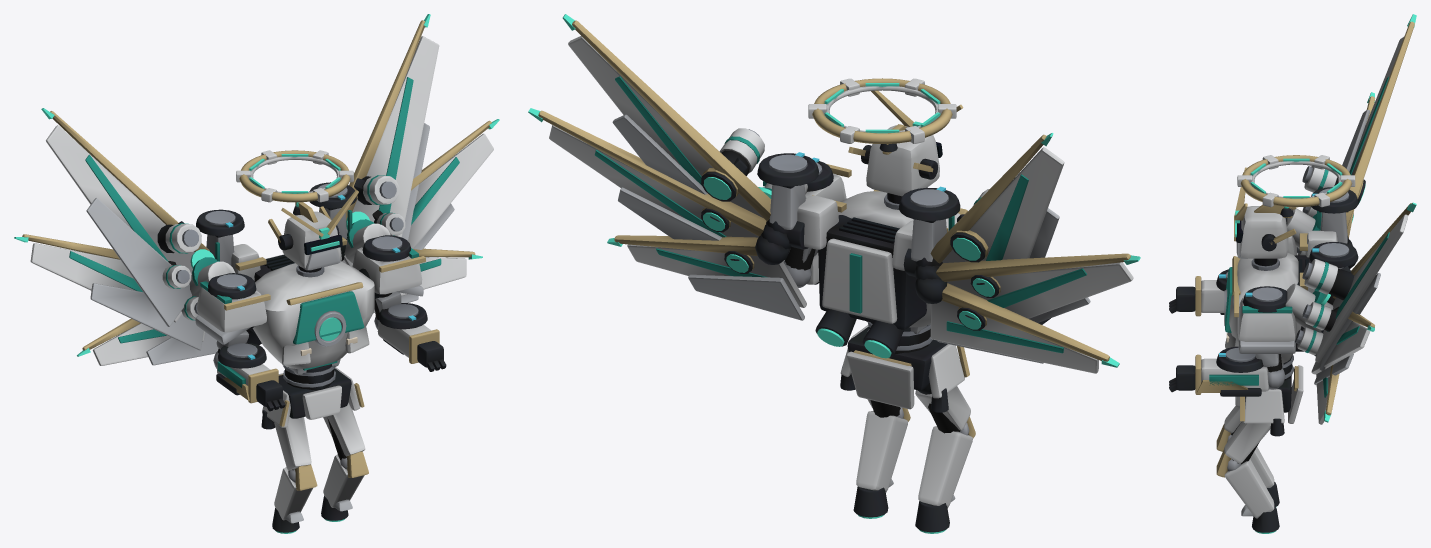
Rendered from ex_seraph_9.glb.
3 views of the same model, side by side, from view 1: azimuth 30°, elevation 25°; view 2: azimuth 150°, elevation 25°; view 3: azimuth 270°, elevation 25° (orthographic). The views are drawn at different scales.
Visible parts, largest first — view 1: body, flap_4, flap_0, flap_5, flap_1, flap_6, fan_0, flap_2; view 2: body, flap_0, flap_1, flap_4, flap_2, flap_5, flap_6, fan_0; view 3: body, flap_0, flap_4, fan_0, flap_1, flap_2, flap_5.
Part boxes in pixels (x1,y1,x2,y2): body: (189, 182, 446, 533); flap_4: (41, 108, 209, 326); flap_0: (345, 14, 439, 240); flap_5: (14, 234, 204, 350); flap_1: (344, 119, 499, 266); flap_6: (77, 296, 218, 365); fan_0: (236, 150, 353, 202); flap_2: (341, 248, 482, 313); body: (757, 90, 1050, 533); flap_0: (562, 14, 789, 233); flap_1: (528, 108, 791, 249); flap_4: (915, 133, 1064, 266); flap_2: (607, 235, 806, 320); flap_5: (914, 253, 1140, 322); flap_6: (914, 278, 1119, 373); fan_0: (808, 78, 956, 143); body: (1169, 167, 1358, 533); flap_0: (1302, 202, 1416, 370); flap_4: (1302, 14, 1416, 243); fan_0: (1237, 155, 1355, 207); flap_1: (1302, 302, 1374, 385); flap_2: (1295, 327, 1339, 424); flap_5: (1302, 92, 1375, 245).
Bounding box in the file's own units: 12.93 × 10.42 × 5.72.
